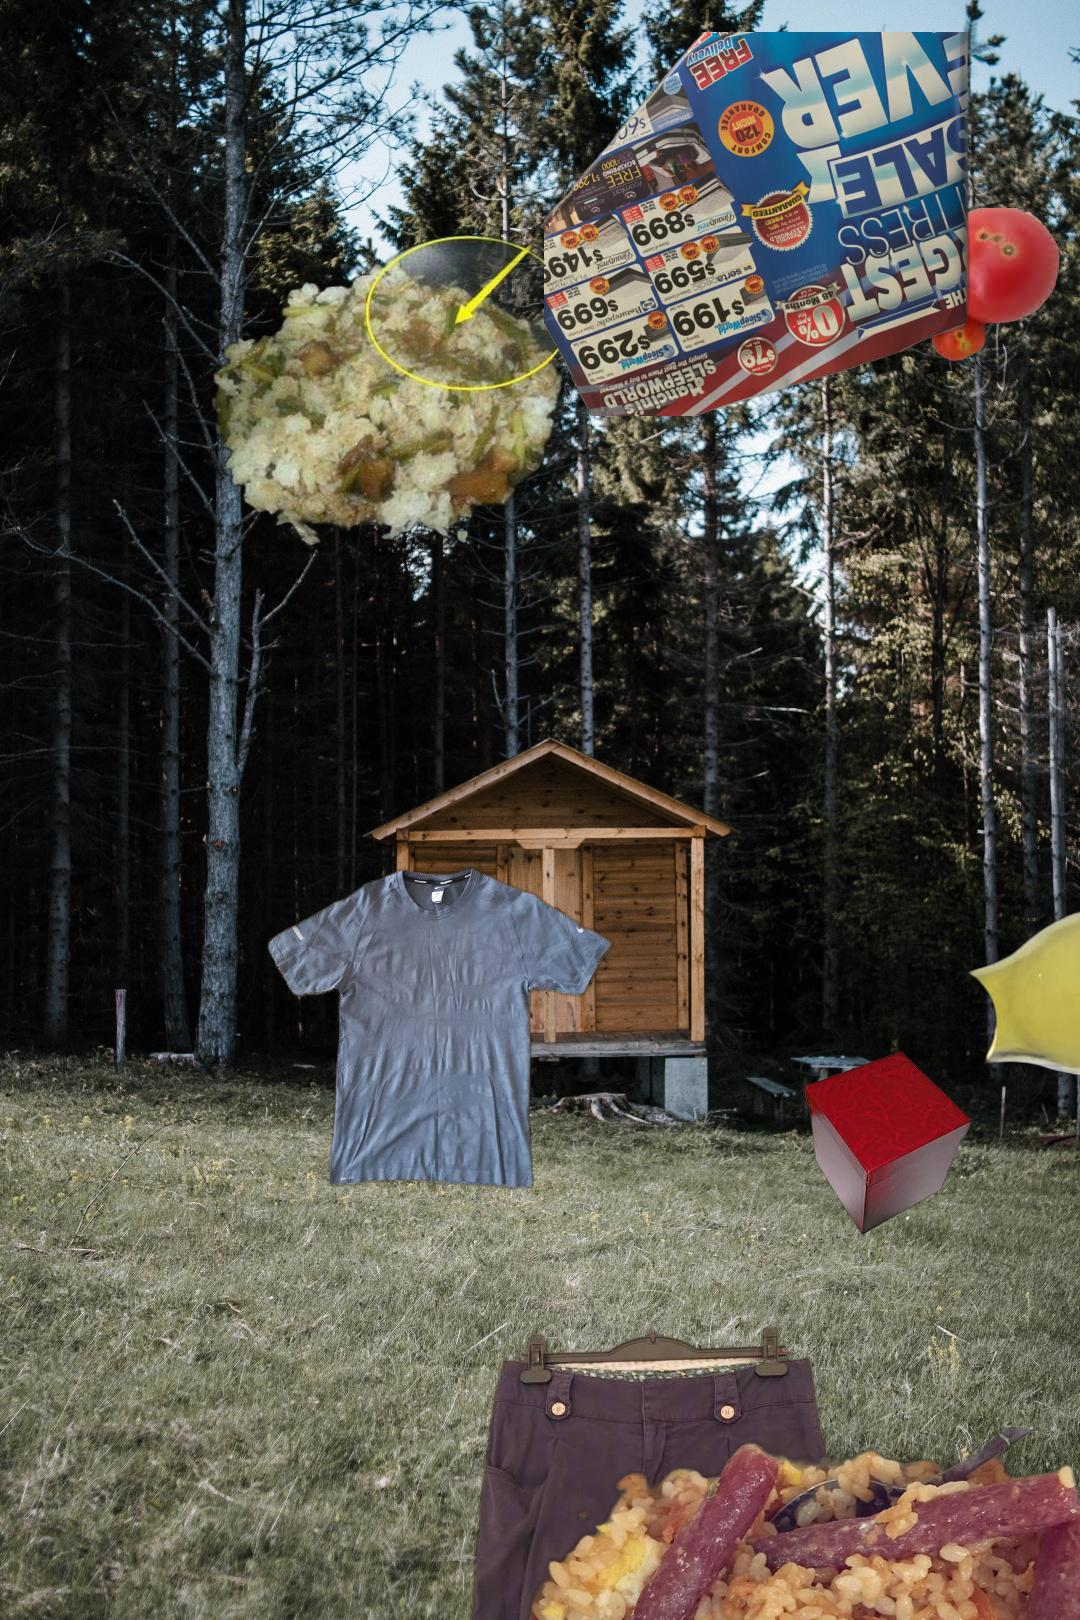biological: (206, 181, 595, 548), (486, 1427, 1080, 1620), (817, 209, 1063, 364)
clothes: (264, 862, 617, 1195), (459, 1323, 845, 1620)
glass: (882, 903, 1080, 1125)
paper: (544, 33, 975, 416)
trashbox-cardboard: (802, 1047, 976, 1238)
